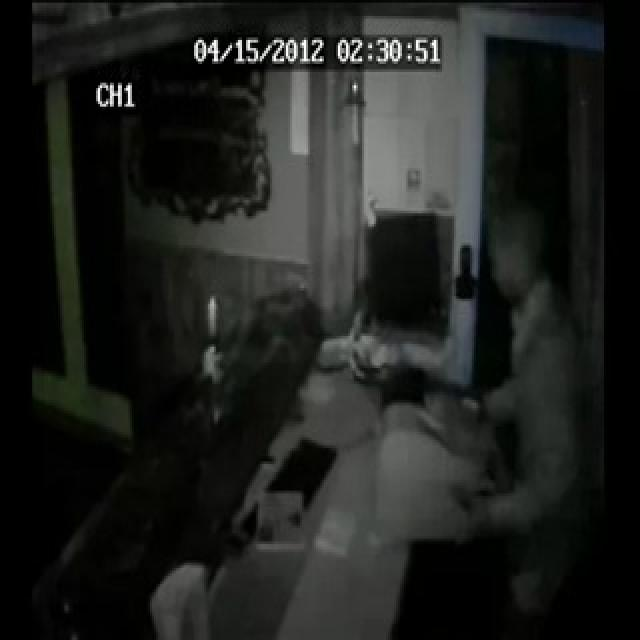thief: (452, 192, 560, 318)
